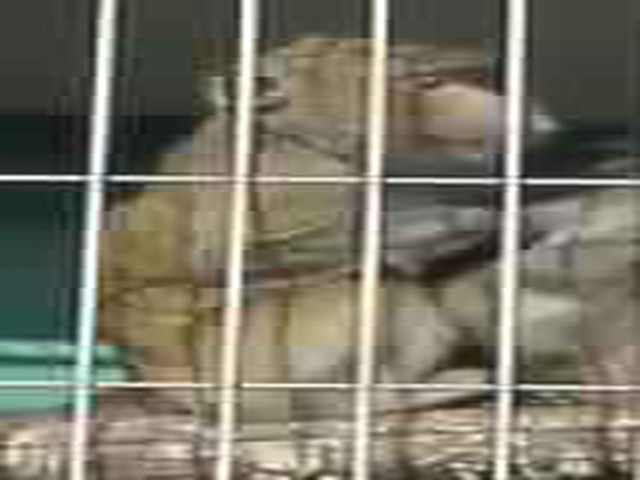Monkey: (104, 13, 588, 423)
